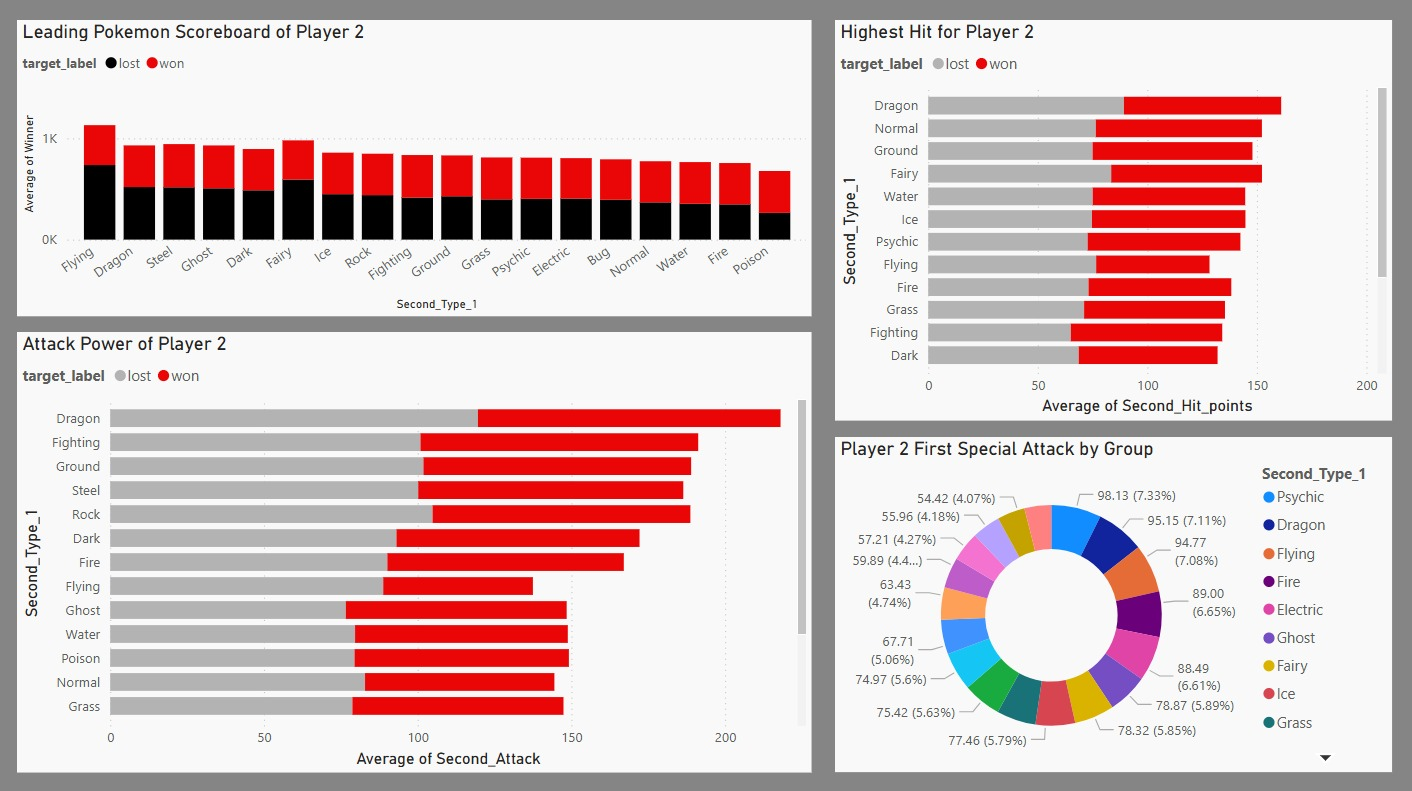

What the dashboard file says about the page in this screenshot:
{"tool":"powerbi","page":{"name":"Player 2 Statistics","canvas":[1280,720],"ordinal":3},"visuals":[{"type":"columnChart","title":"Leading Pokemon Scoreboard of Player 2","fields":{"Series":["combined_ml.target_label"],"Category":["combined_ml.Second_Type_1"],"Y":["Avg(combined_ml.Winner)"]},"box":[19.5,20.4,716.5,266.9],"z":0},{"type":"barChart","title":"Attack Power of Player 2","fields":{"Y":["Avg(combined_ml.Second_Attack)"],"Series":["combined_ml.target_label"],"Category":["combined_ml.Second_Type_1"]},"box":[19.5,301.5,716.5,397.2],"z":1},{"type":"barChart","title":"Highest Hit for Player 2","fields":{"Series":["combined_ml.target_label"],"Y":["Avg(combined_ml.Second_Hit_points)"],"Category":["combined_ml.Second_Type_1"]},"box":[757.2,20.4,501.9,360.9],"z":2},{"type":"donutChart","title":"Player 2 First Special Attack by Group","fields":{"Y":["Avg(combined_ml.Second_Special_attack)"],"Category":["combined_ml.Second_Type_1"]},"box":[757.2,396.4,501.9,302.4],"z":3}]}

Visuals, with their boxes in screenshot pixels (x1, y1, x2, y2), scaled from the page's 1280x720 canvas onto the 1412x791 screenshot:
"Leading Pokemon Scoreboard of Player 2" columnChart: <region>22, 22, 812, 316</region>
"Attack Power of Player 2" barChart: <region>22, 331, 812, 768</region>
"Highest Hit for Player 2" barChart: <region>835, 22, 1389, 419</region>
"Player 2 First Special Attack by Group" donutChart: <region>835, 435, 1389, 768</region>
